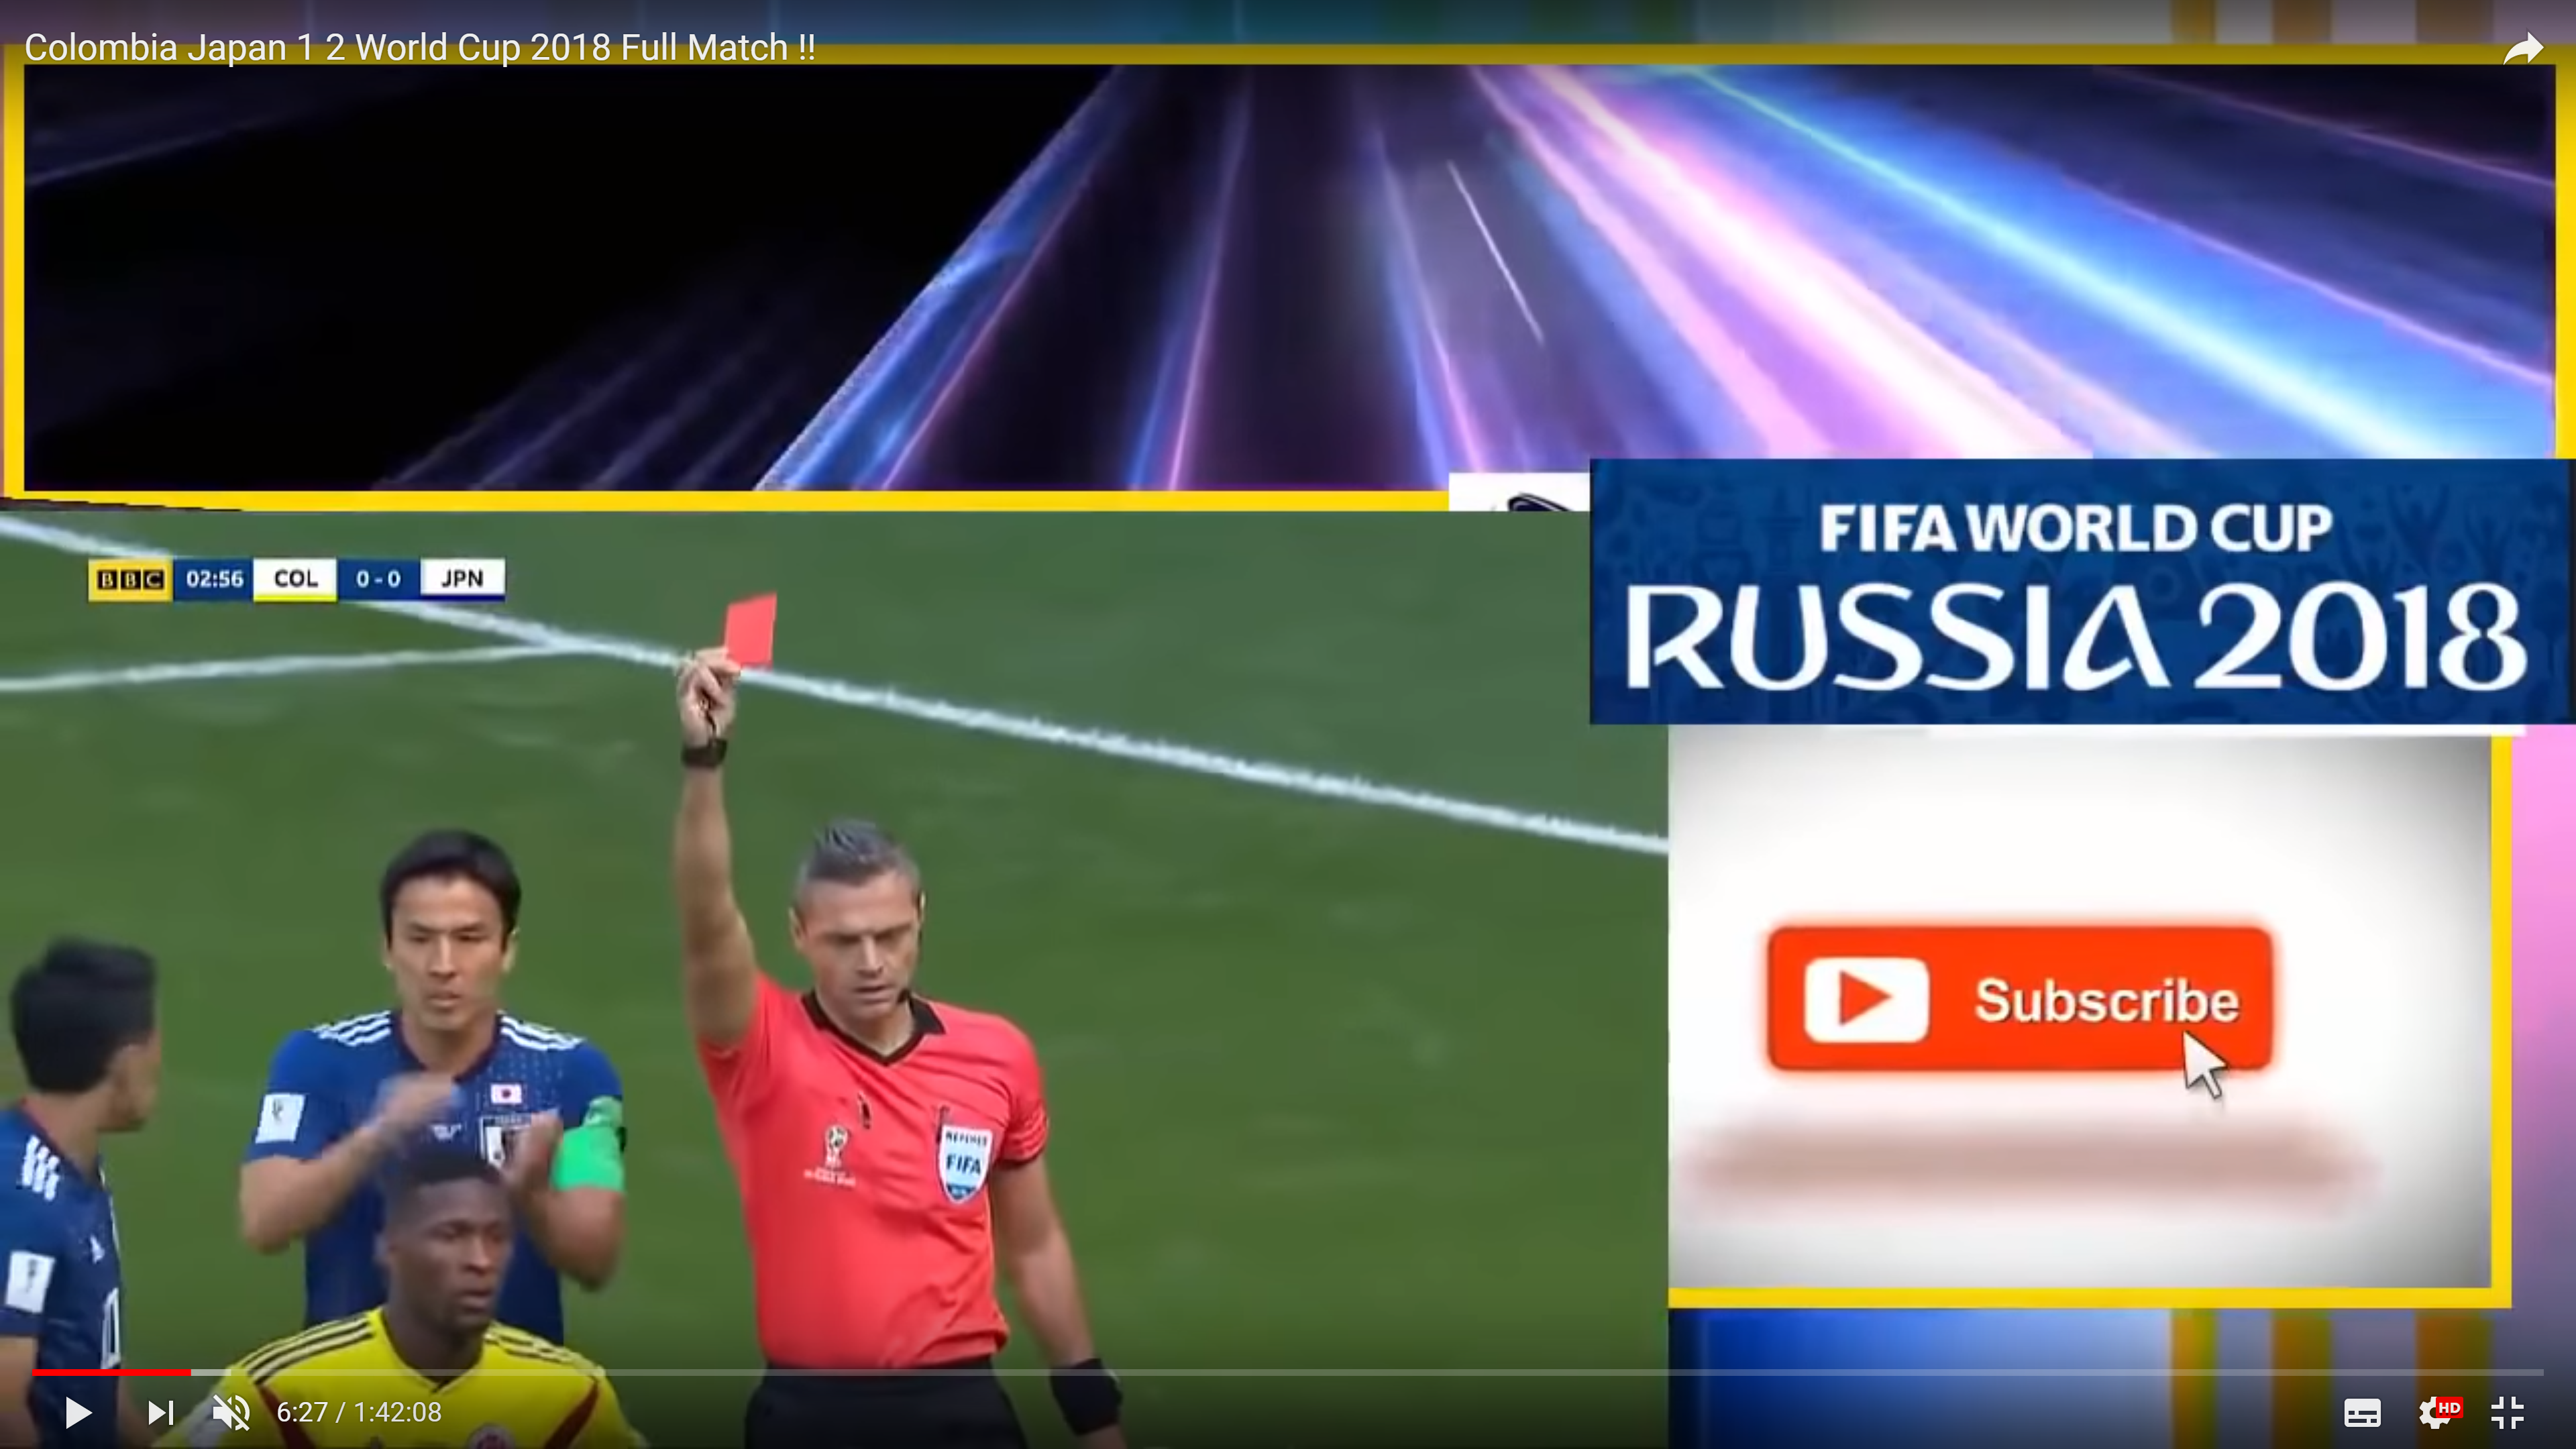red_card: (667, 594, 777, 763)
